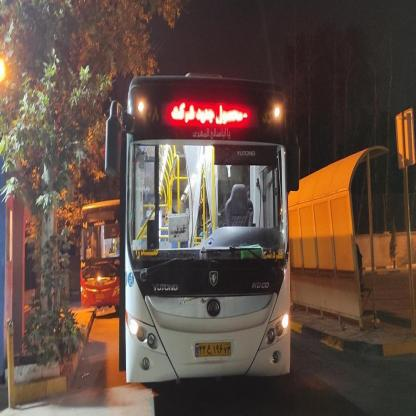Bus: (102, 62, 297, 386), (82, 185, 128, 323)
